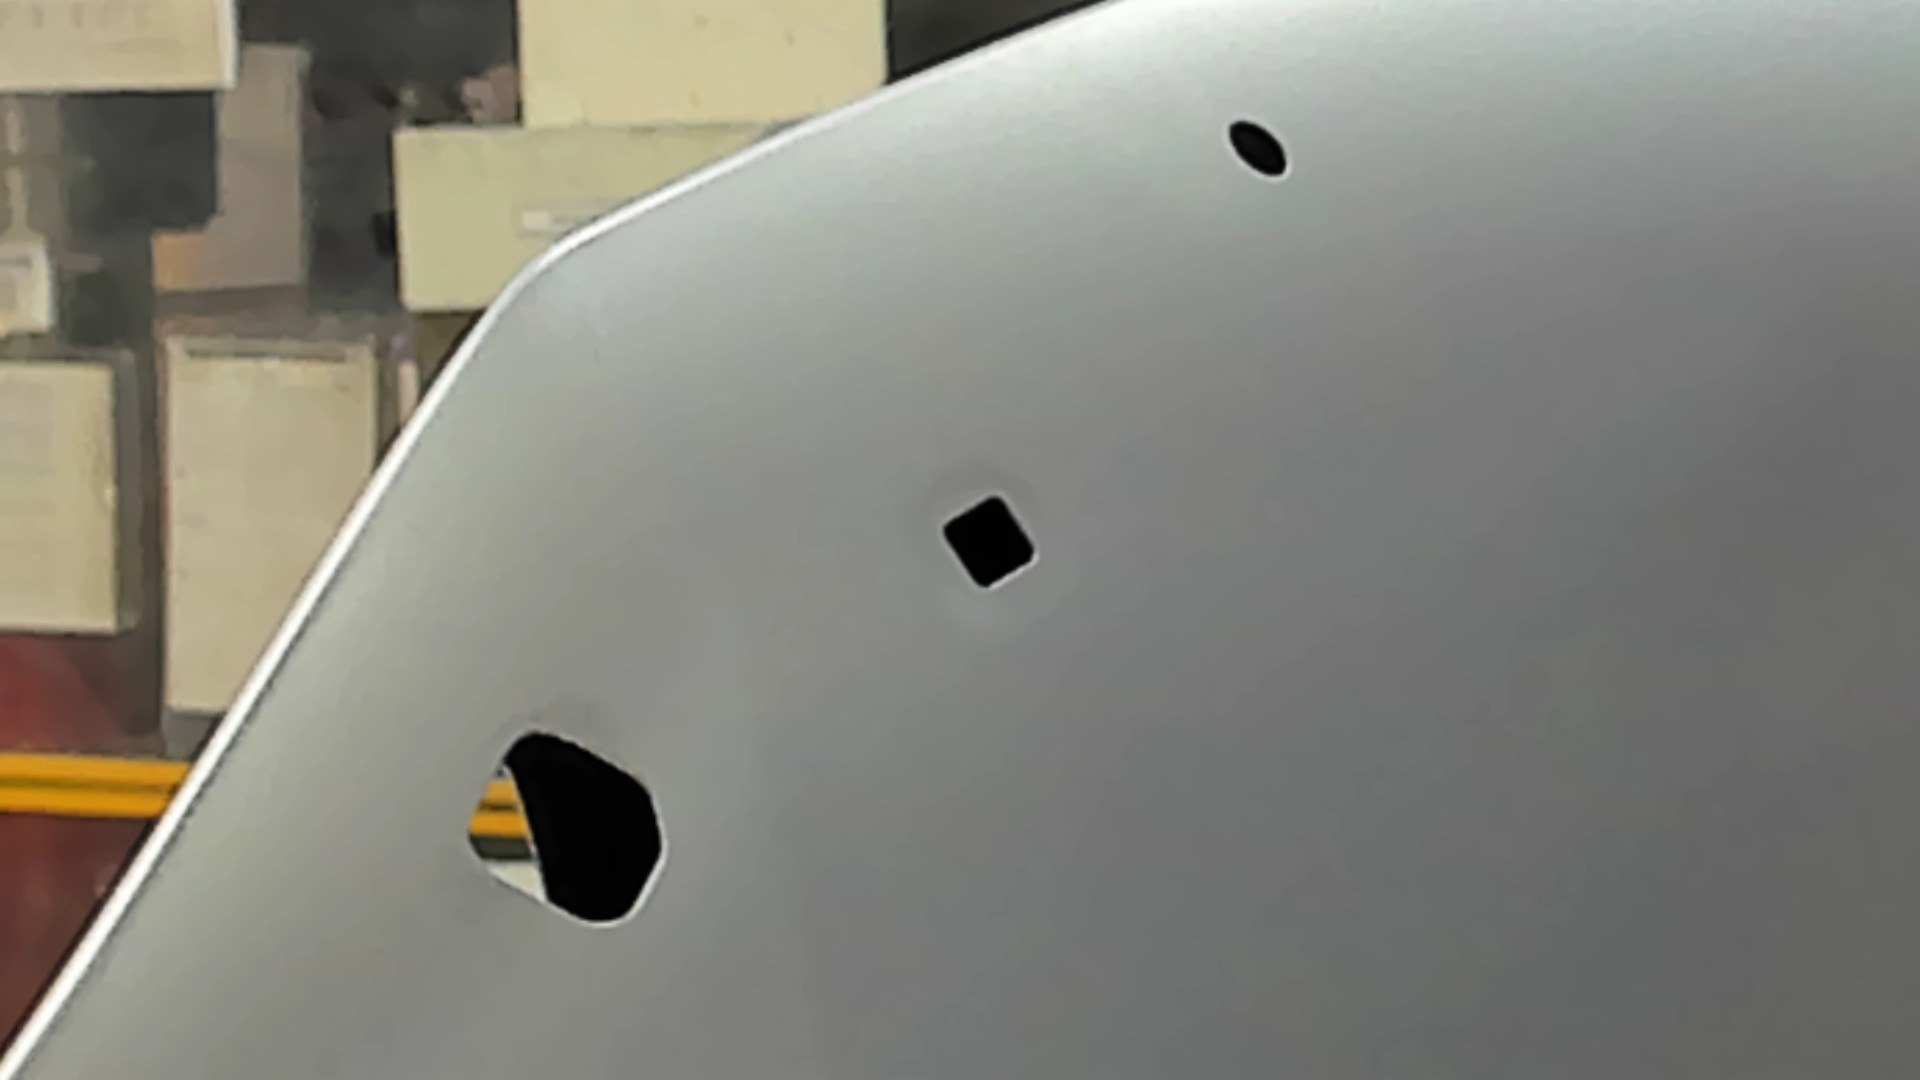chico: (1225, 115, 1291, 182)
grande: (462, 728, 670, 928)
mediano: (939, 491, 1042, 591)
